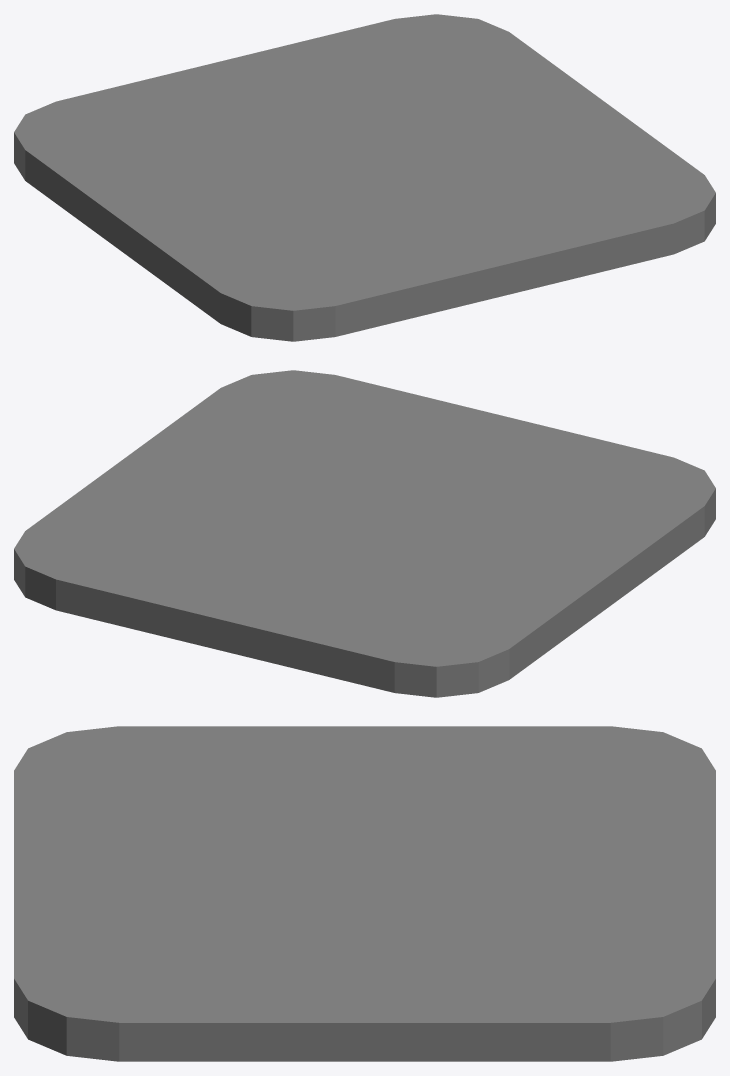
The model's file is Button_01.fbx.
3 renders of one model, top to bottom at view 1: azimuth 30°, elevation 25°; view 2: azimuth 150°, elevation 25°; view 3: azimuth 270°, elevation 25°, orthographic. The views are drawn at different scales.
Parts seen in each view (by area): view 1: Button_01; view 2: Button_01; view 3: Button_01.
Boxes of the visible parts, x1,y1,x2,y2 form: Button_01: (14,14,715,341); Button_01: (14,370,715,697); Button_01: (14,726,715,1061).
Size of the model in its own units: 1 by 0.0612 by 1.
